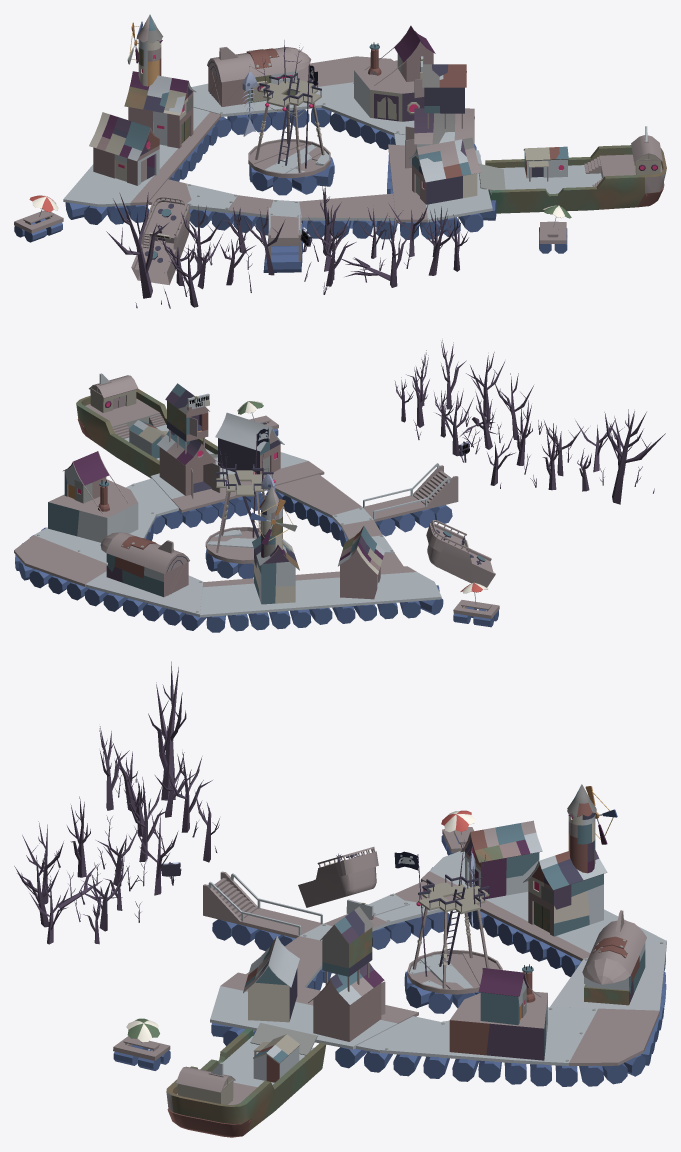
File: Neighborhood_BearTown_03.fbx
3 renders of one model, top to bottom at view 1: azimuth 30°, elevation 25°; view 2: azimuth 150°, elevation 25°; view 3: azimuth 270°, elevation 25°, orthographic. The views are drawn at different scales.
Parts seen in each view (by area): view 1: polySurface300, polySurface301, polySurface230, polySurface242, pCube380, pCube445, pCube353, polySurface226, polySurface240, polySurface278, polySurface303, polySurface302 (+11 smaller); view 2: polySurface300, pCube445, polySurface242, pCube353, polySurface301, polySurface230, pCube380, polySurface240, polySurface278, polySurface226, polySurface296, polySurface303 (+11 smaller); view 3: polySurface300, polySurface301, polySurface242, polySurface230, pCube445, pCube380, polySurface226, pCube353, polySurface240, polySurface278, polySurface304, polySurface296 (+6 smaller).
Part boxes in pixels (x1,y1,x2,y2): polySurface300: (63, 56, 492, 261); polySurface301: (479, 145, 666, 213); polySurface230: (124, 14, 195, 148); polySurface242: (405, 56, 474, 168); pCube380: (248, 73, 330, 177); pCube445: (354, 25, 435, 121); pCube353: (207, 47, 311, 106); polySurface226: (89, 112, 162, 185); polySurface240: (409, 137, 481, 204); polySurface278: (131, 196, 190, 285); polySurface303: (14, 195, 63, 242); polySurface302: (523, 146, 568, 181); polySurface300: (14, 452, 458, 617); pCube445: (48, 451, 138, 542); polySurface242: (157, 383, 220, 498); pCube353: (100, 532, 189, 597); polySurface301: (76, 389, 217, 477); polySurface230: (252, 486, 299, 604); pCube380: (205, 464, 273, 563); polySurface240: (215, 412, 284, 476); polySurface278: (426, 520, 495, 587); polySurface226: (338, 526, 384, 599); polySurface296: (89, 373, 138, 412); polySurface303: (453, 582, 499, 627); polySurface300: (203, 851, 666, 1066); polySurface301: (166, 1023, 326, 1137); polySurface242: (308, 899, 385, 1041); polySurface230: (523, 784, 607, 936); pCube445: (449, 968, 547, 1060); pCube380: (407, 874, 502, 994); polySurface226: (460, 820, 542, 899); pCube353: (582, 910, 646, 1005); polySurface240: (243, 936, 299, 1022); polySurface278: (298, 847, 378, 907); polySurface304: (113, 1018, 170, 1070); polySurface296: (176, 1062, 235, 1104).
Bounding box in the file's own units: 6486 × 1708 × 5458.
